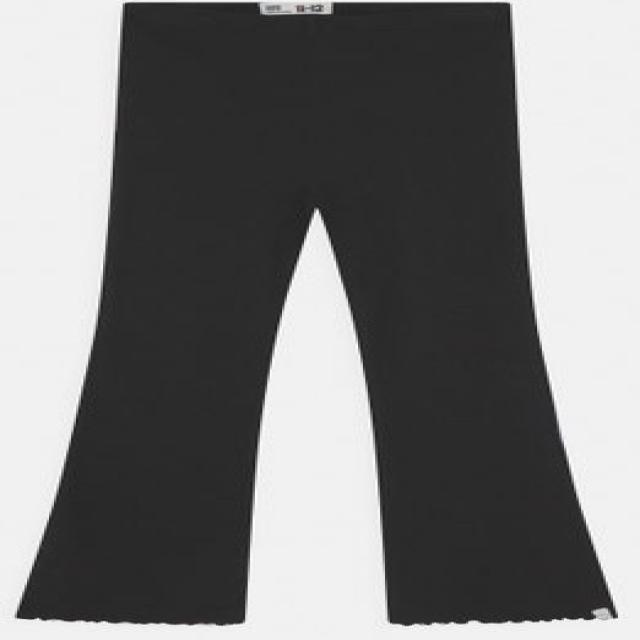pants: (10, 0, 619, 622)
